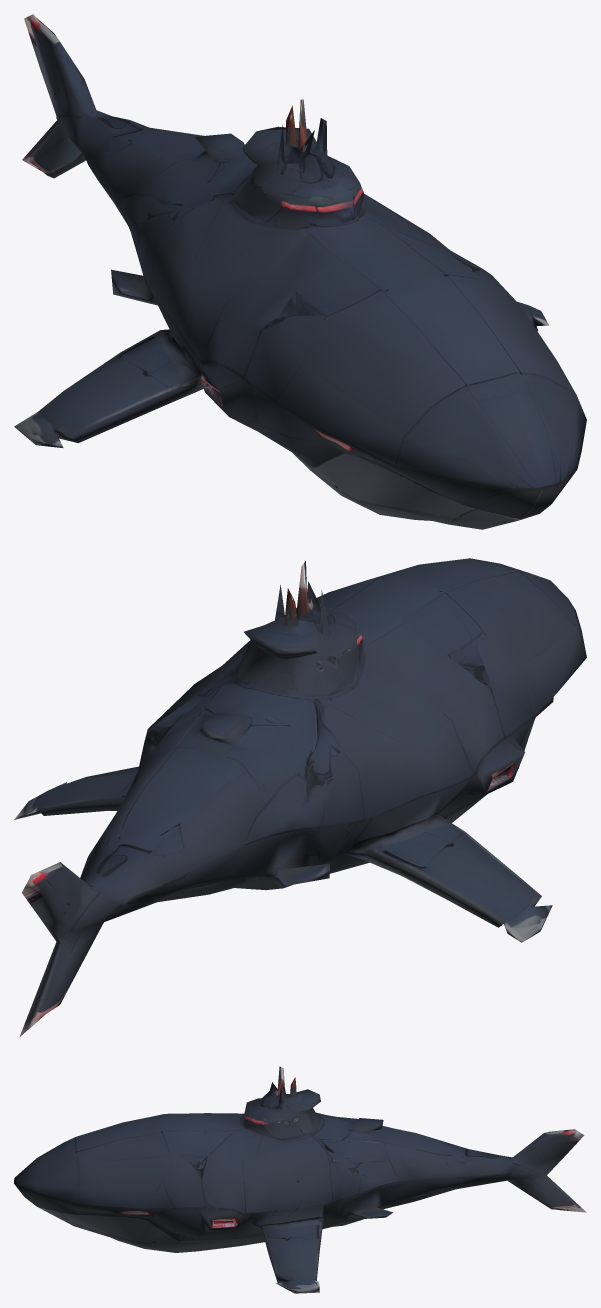
The model's file is fish.obj.
The picture shows the model from 3 angles, top to bottom: view 1: azimuth 30°, elevation 25°; view 2: azimuth 150°, elevation 25°; view 3: azimuth 270°, elevation 25°; orthographic projection. The views are drawn at different scales.
Parts seen in each view (by area): view 1: tripo_node_e4eb5c3a-937c-408b-95ba-fd12471d9535; view 2: tripo_node_e4eb5c3a-937c-408b-95ba-fd12471d9535; view 3: tripo_node_e4eb5c3a-937c-408b-95ba-fd12471d9535.
Part boxes in pixels (x1=…): tripo_node_e4eb5c3a-937c-408b-95ba-fd12471d9535: x1=14, y1=14, x2=586, y2=529; tripo_node_e4eb5c3a-937c-408b-95ba-fd12471d9535: x1=14, y1=558, x2=586, y2=1037; tripo_node_e4eb5c3a-937c-408b-95ba-fd12471d9535: x1=14, y1=1066, x2=586, y2=1293.
Size of the model in its own units: 2.79 by 1.71 by 4.99.
Materials: 1 (1 with a texture image).
